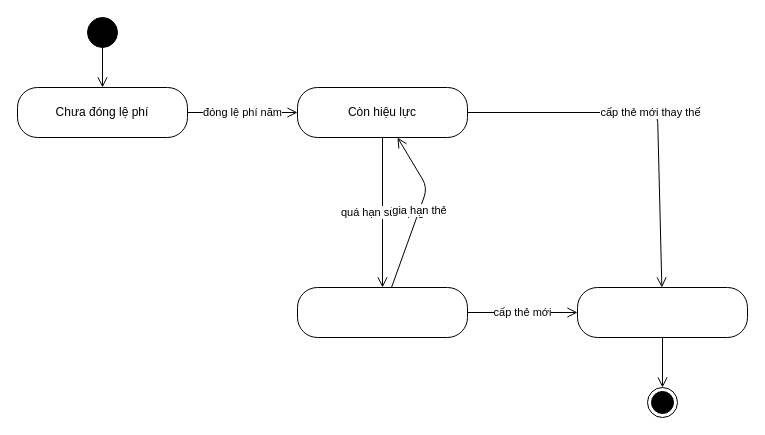
The diagram is 765 pixels wide and 435 high, and some of its shapes have lost their labels. The shapes that lost their labels are listed below. From the top down, each one's box as (x1, y1, x2, y2) in pixels, then its label:
(296, 286, 468, 338): Hết hạn
(576, 286, 748, 338): Vô hiệu
